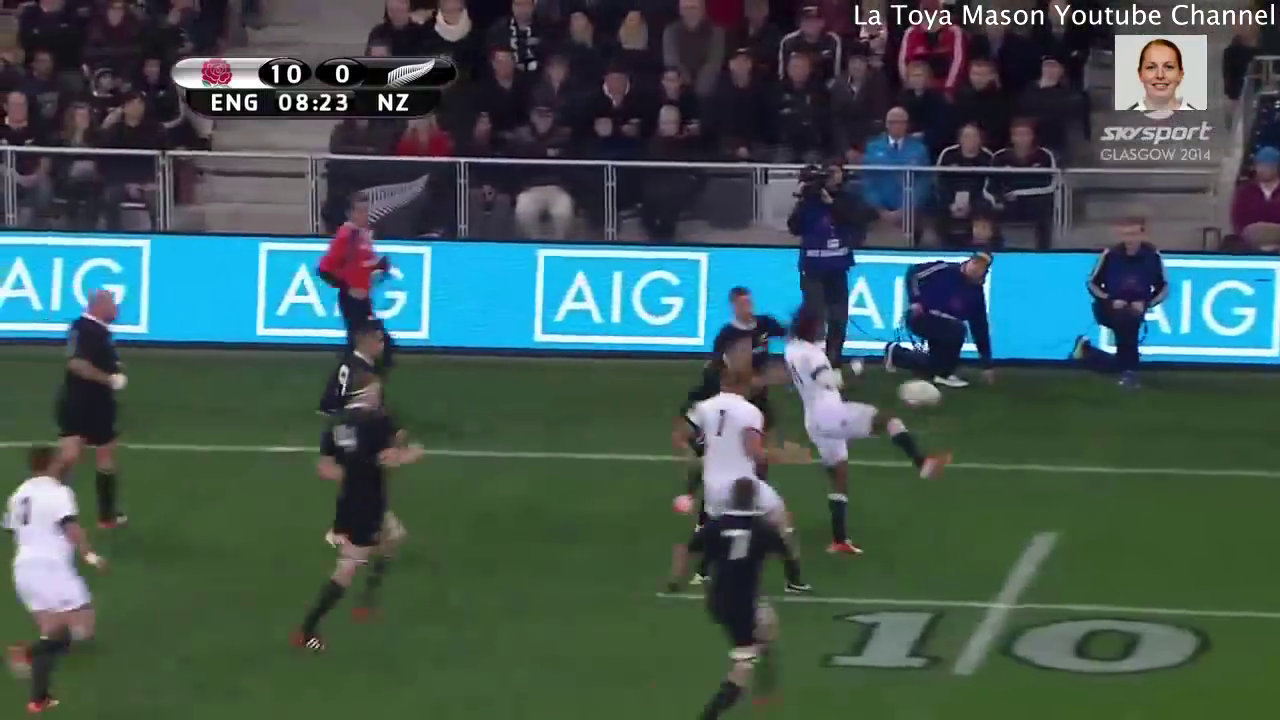10_metre: (720, 516, 1280, 688)
ball: (885, 360, 956, 420)
player: (275, 366, 449, 671), (775, 296, 970, 568), (657, 468, 815, 720), (658, 357, 810, 594), (1, 432, 118, 720), (27, 272, 138, 543), (669, 276, 794, 432), (295, 312, 409, 446)
